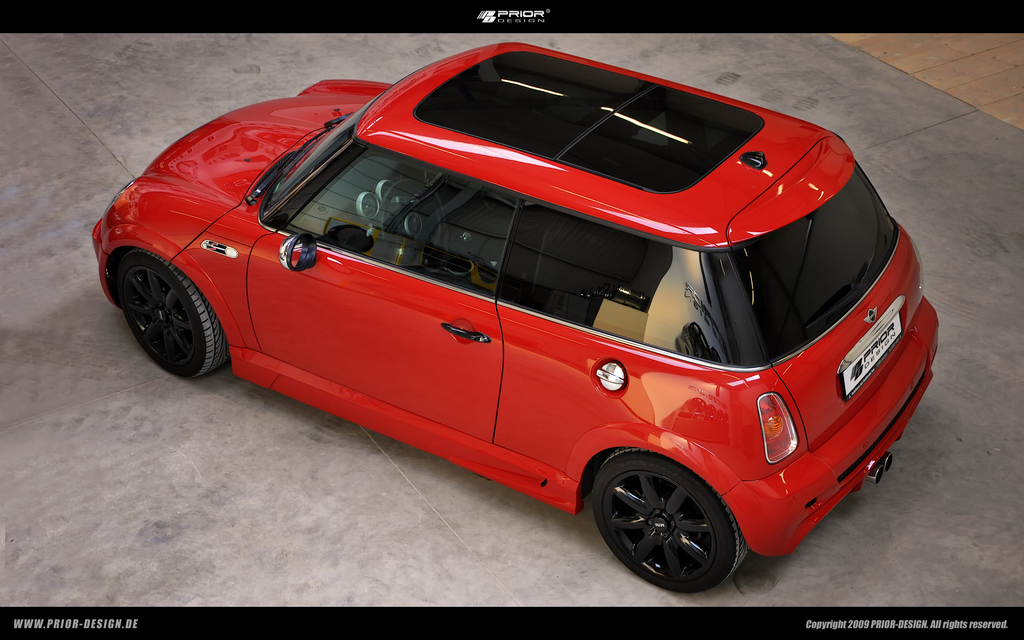Car: (119, 58, 940, 602)
